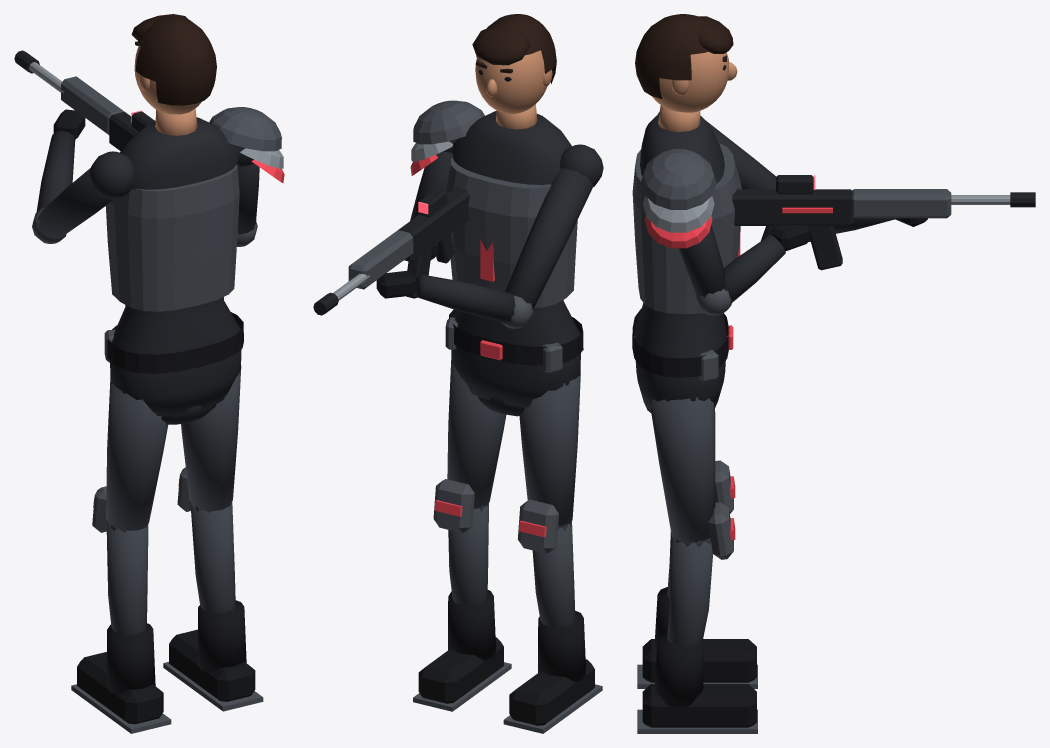
The model's file is valquiria.glb.
3 views of the same model, side by side, from view 1: azimuth 30°, elevation 25°; view 2: azimuth 150°, elevation 25°; view 3: azimuth 270°, elevation 25° (orthographic).
Parts seen in each view (by area): view 1: Valquiria_Body; view 2: Valquiria_Body; view 3: Valquiria_Body.
Part boxes in pixels (x1,y1,x2,y2): Valquiria_Body: [14, 14, 284, 733]; Valquiria_Body: [313, 14, 603, 733]; Valquiria_Body: [632, 14, 1035, 733].
Size of what is drawn, in the model's own units: 0.5155 by 1.8 by 0.9614.
1 material, 1 textured.
